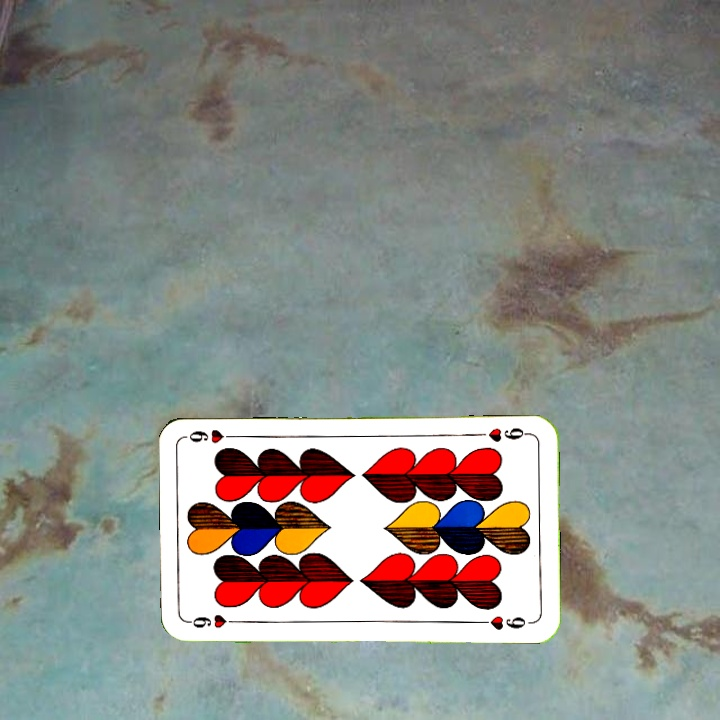H9: (474, 423, 533, 444), (185, 611, 244, 631)
